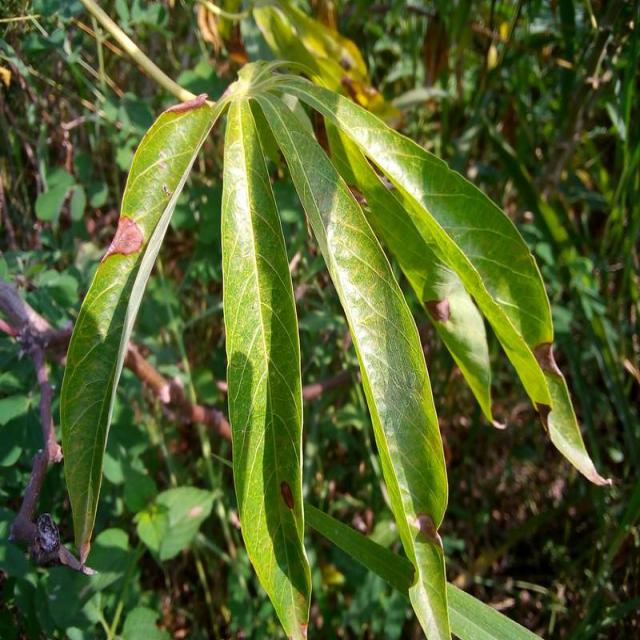cassava leaf: (59, 56, 610, 638), (59, 90, 230, 568), (220, 87, 314, 638)
